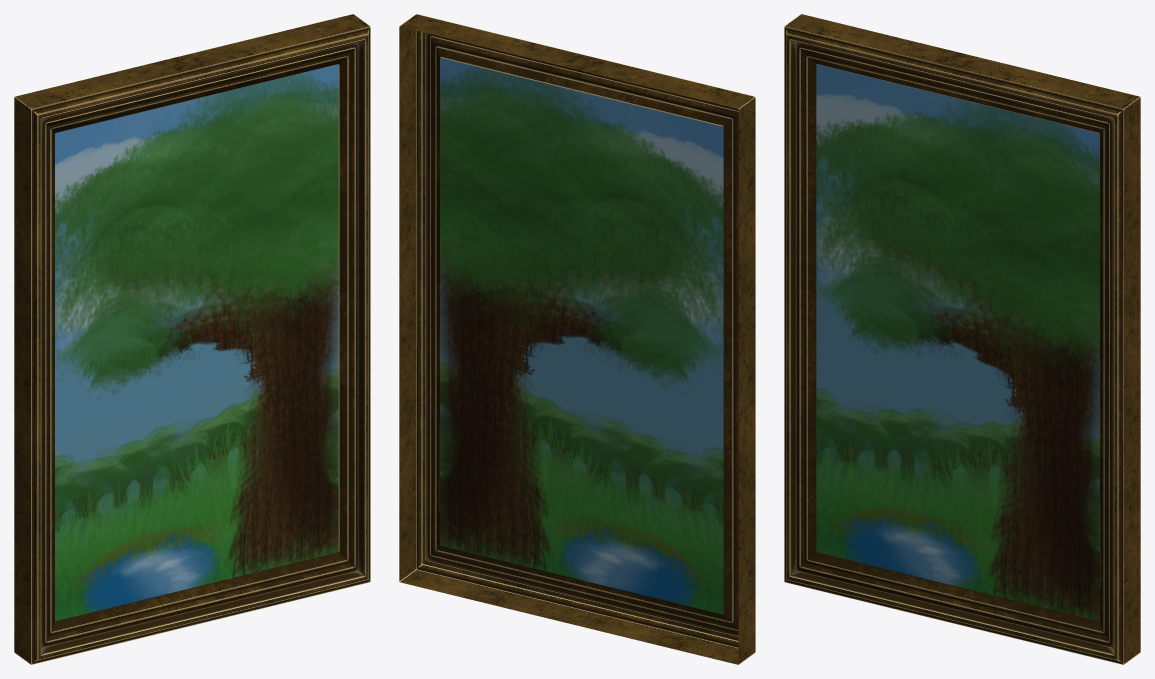
Rendered from painting-portrait-11.fbx.
3 views of the same model, side by side, from view 1: azimuth 30°, elevation 25°; view 2: azimuth 150°, elevation 25°; view 3: azimuth 330°, elevation 25° (orthographic).
Parts seen in each view (by area): view 1: painting_Var2; view 2: painting_Var2; view 3: painting_Var2.
Part boxes in pixels (bbox=[...]): painting_Var2: bbox=[14, 14, 370, 664]; painting_Var2: bbox=[399, 14, 755, 664]; painting_Var2: bbox=[784, 14, 1140, 664].
Size of the model in its own units: 59.07 by 92.39 by 5.86.
2 materials, 2 textured.
